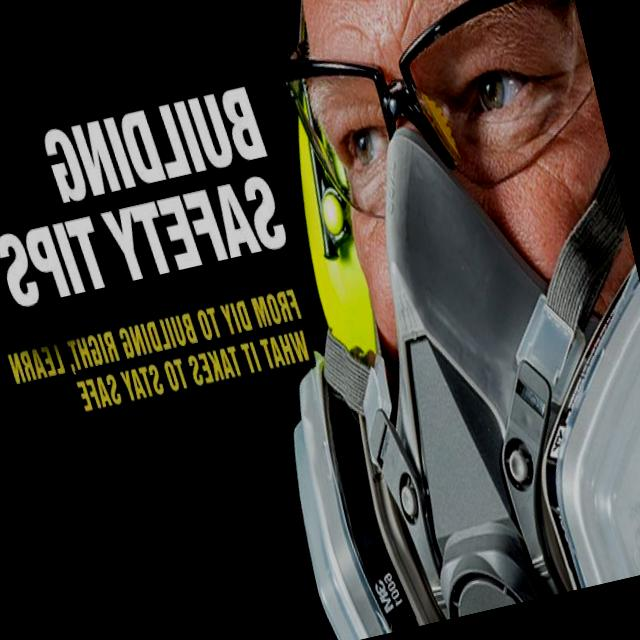goggles: (265, 0, 613, 236)
